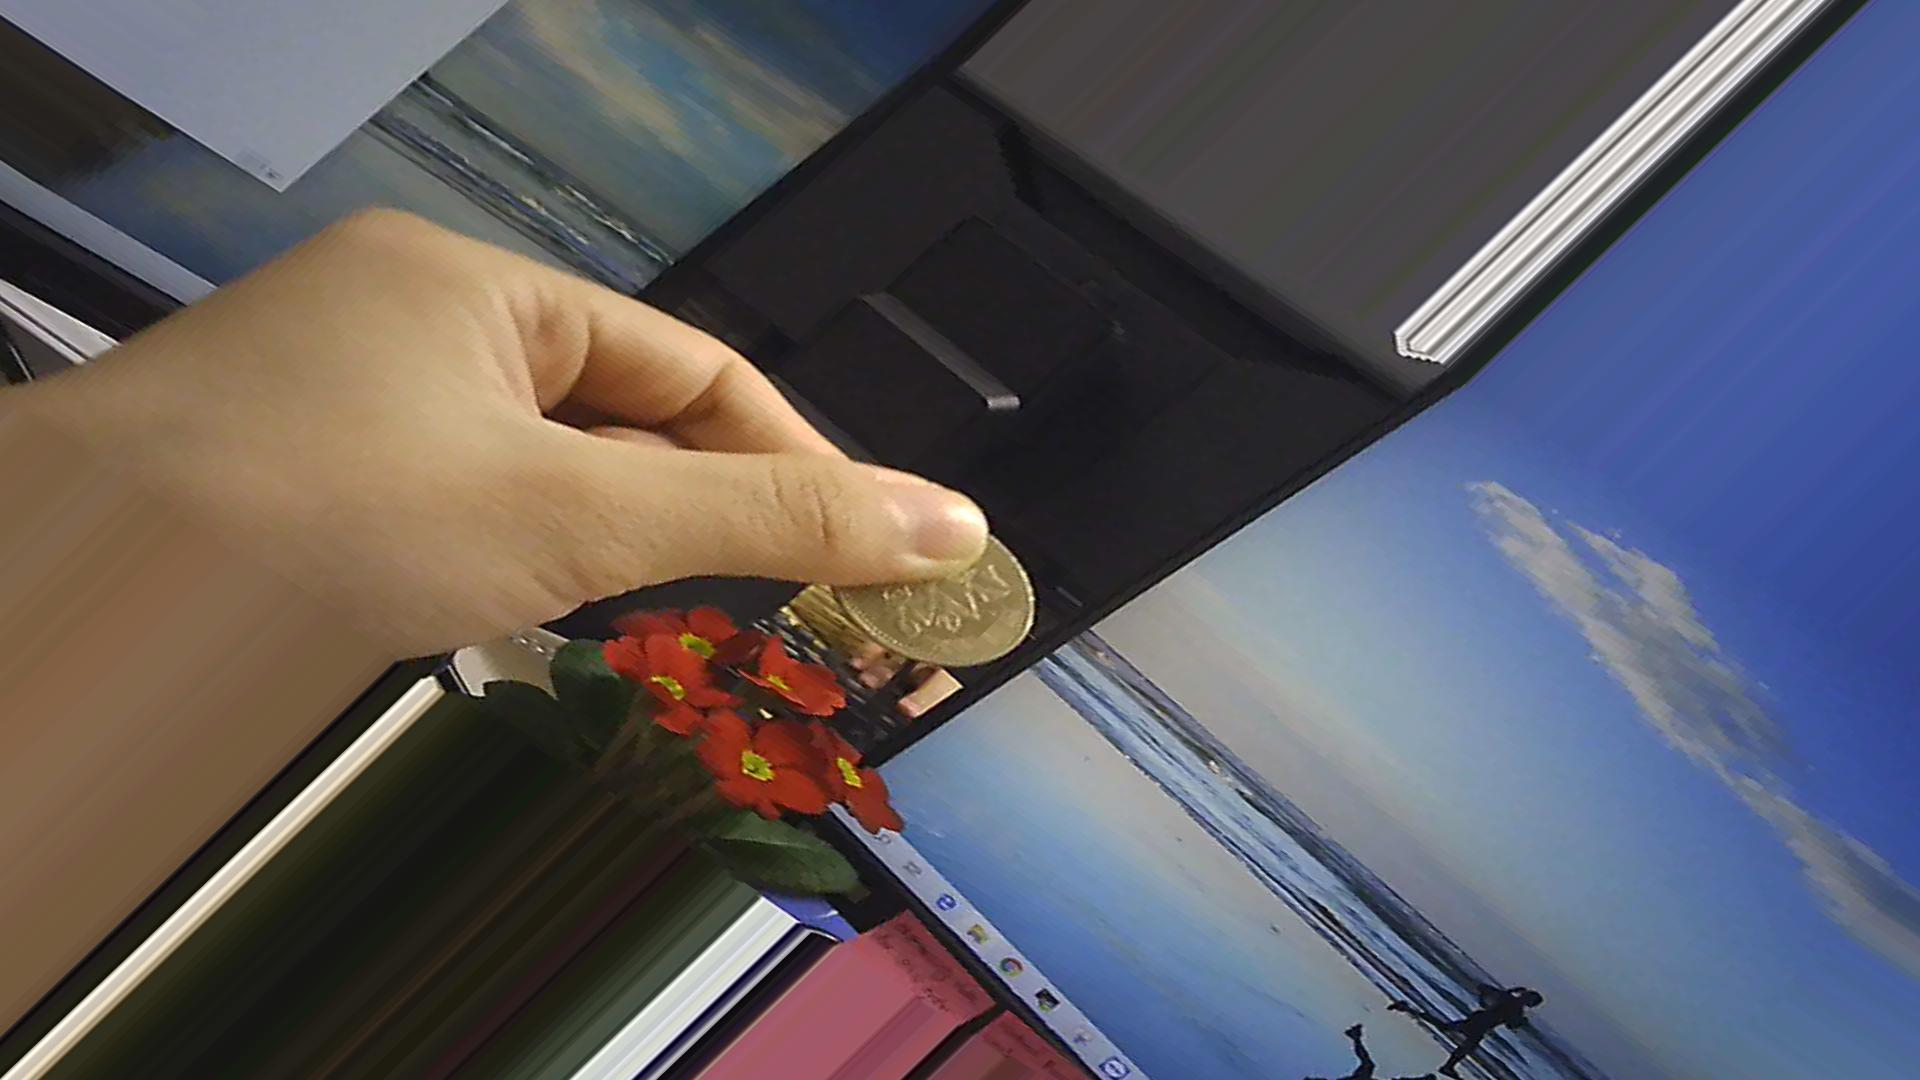500 Yen: (837, 512, 1034, 662)
